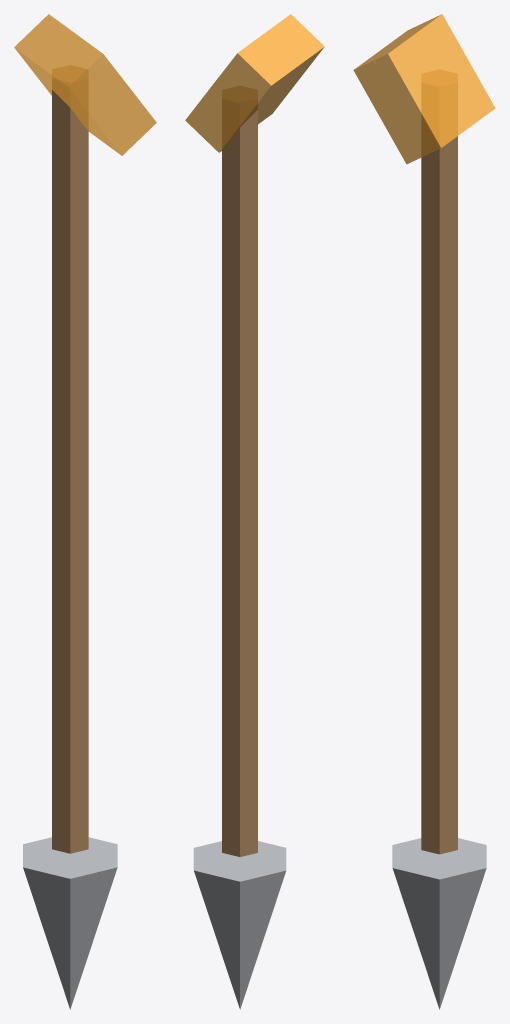
File: firebolt_projectile.glb
3 views of the same model, side by side, from view 1: azimuth 30°, elevation 25°; view 2: azimuth 150°, elevation 25°; view 3: azimuth 330°, elevation 25° (orthographic). The views are drawn at different scales.
Parts seen in each view (by area): view 1: shaft, tip, fletching_a; view 2: shaft, tip, fletching_a; view 3: shaft, fletching_a, tip.
Boxes of the visible parts, bbox=[...] form: shaft: bbox=[52, 65, 88, 853]; tip: bbox=[23, 837, 117, 1009]; fletching_a: bbox=[14, 14, 156, 155]; shaft: bbox=[222, 86, 257, 856]; tip: bbox=[193, 841, 286, 1009]; fletching_a: bbox=[185, 14, 324, 152]; shaft: bbox=[421, 70, 457, 854]; fletching_a: bbox=[353, 14, 495, 164]; tip: bbox=[392, 838, 486, 1009].
Bounding box in the file's own units: 0.18 × 1.8 × 0.2179.
